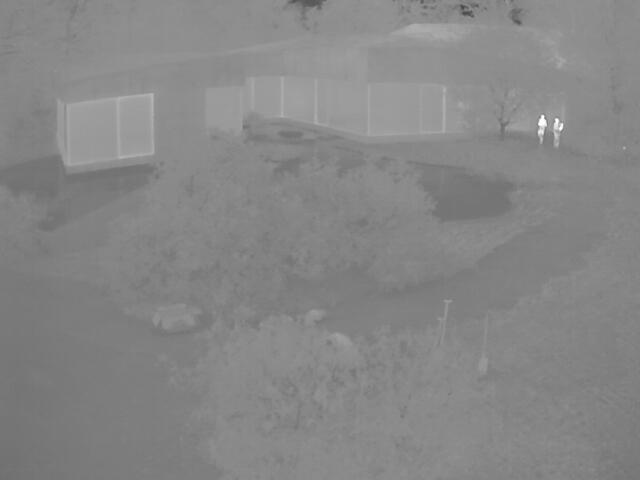person: (551, 117, 564, 148), (535, 114, 546, 147)
